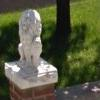Statue: (10, 3, 51, 71)
